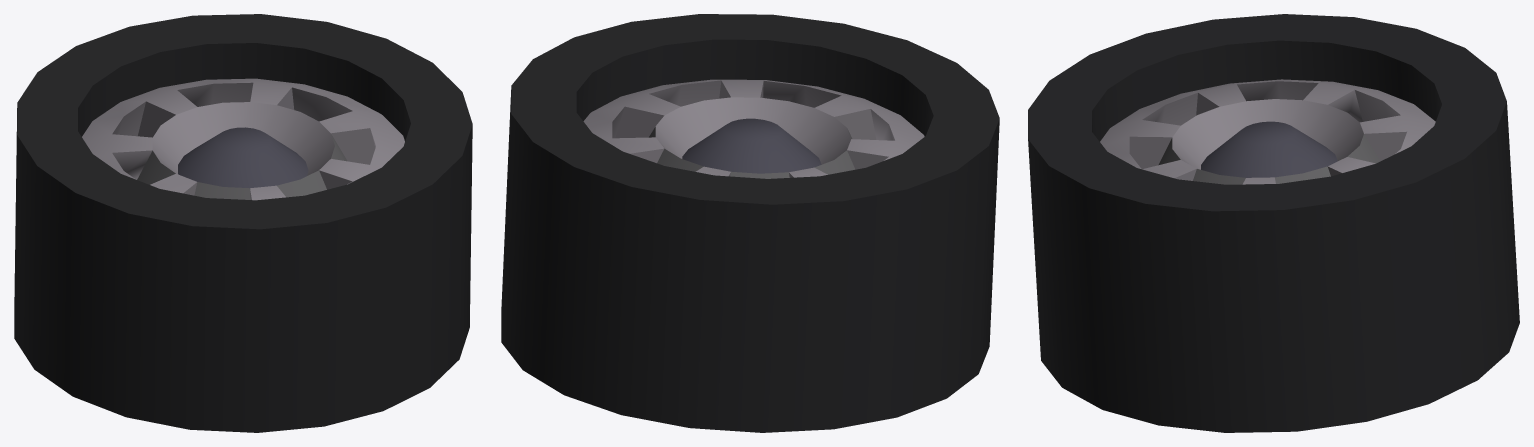
The model's file is old-wheel.fbx.
3 views of the same model, side by side, from view 1: azimuth 30°, elevation 25°; view 2: azimuth 150°, elevation 25°; view 3: azimuth 270°, elevation 25° (orthographic). The views are drawn at different scales.
Parts seen in each view (by area): view 1: PNEU; view 2: PNEU; view 3: PNEU.
Part boxes in pixels (x1,y1,x2,y2): PNEU: [14, 14, 472, 432]; PNEU: [501, 14, 999, 432]; PNEU: [1028, 14, 1519, 432].
Size of the model in its own units: 76.49 by 42.52 by 77.6.
